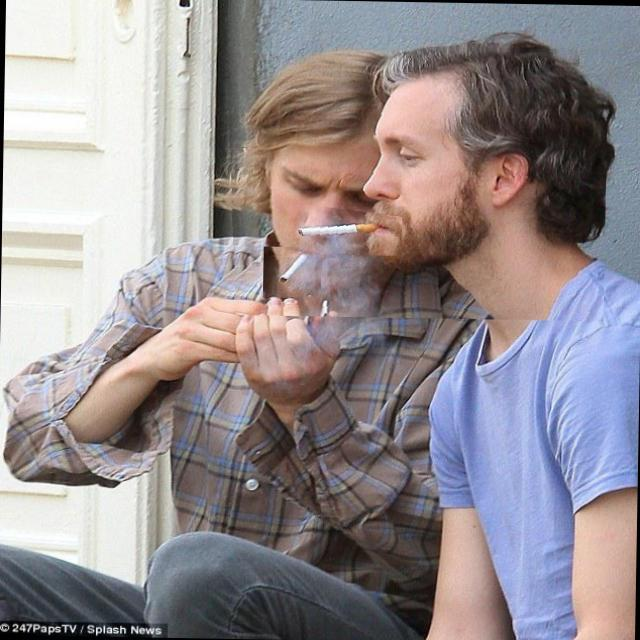cigarette: (286, 201, 402, 256), (262, 246, 324, 300)
